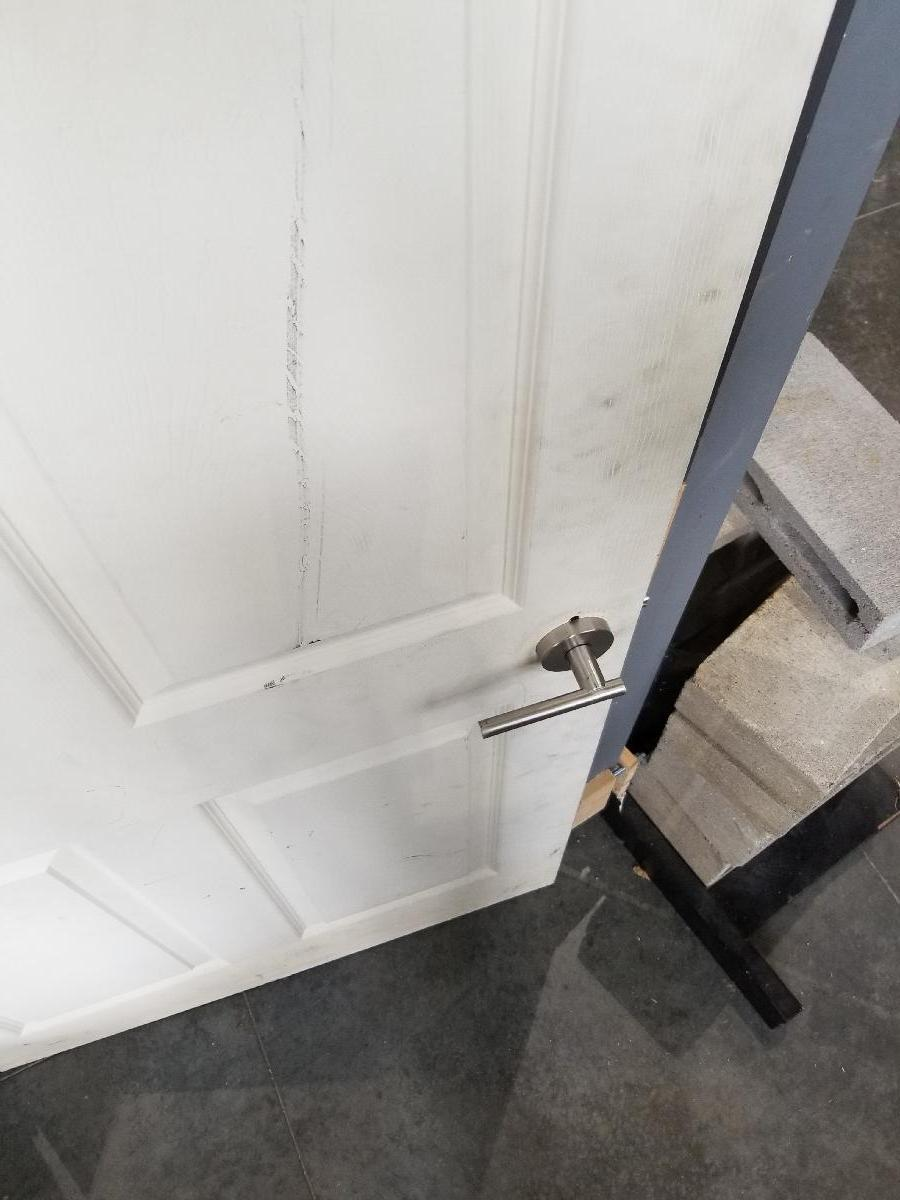door: (11, 8, 609, 1035)
handle: (468, 608, 634, 743)
